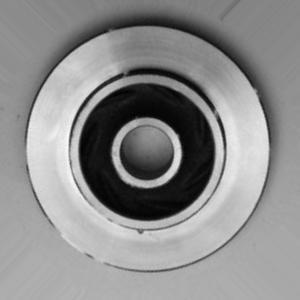defect: (109, 213, 189, 261)
